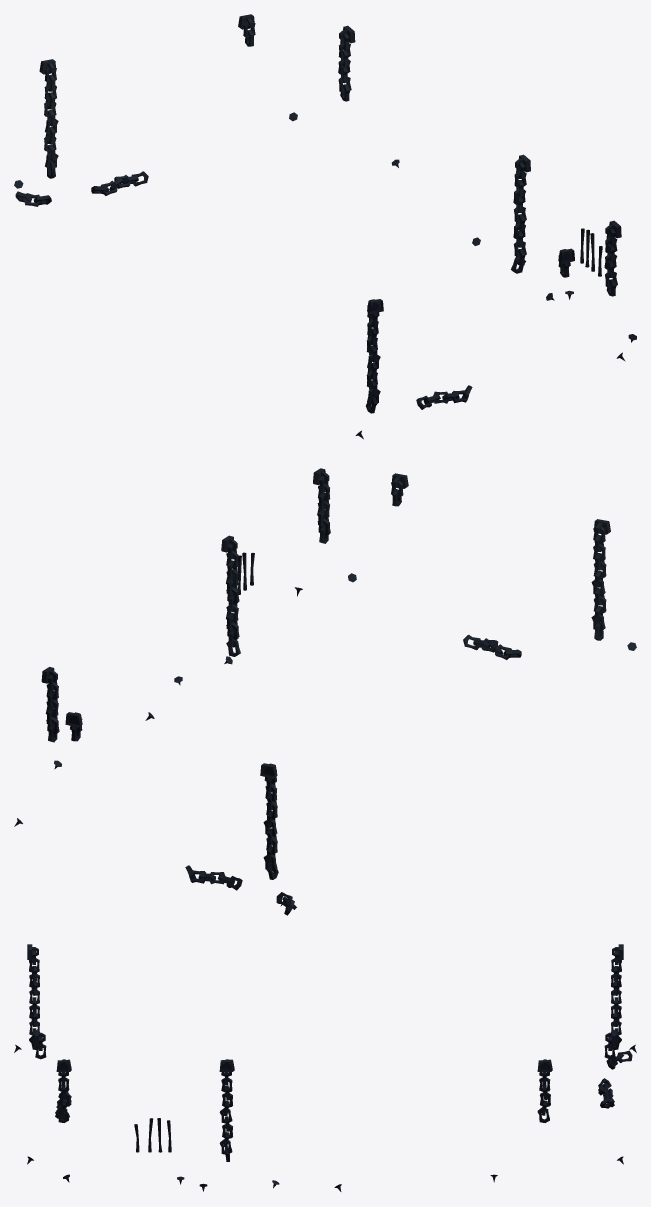
The model's file is Iron_01.FBX.
The picture shows the model from 3 angles, top to bottom: view 1: azimuth 30°, elevation 25°; view 2: azimuth 150°, elevation 25°; view 3: azimuth 270°, elevation 25°; orthographic projection. The views are drawn at different scales.
Parts seen in each view (by area): view 1: Iron_01; view 2: Iron_01; view 3: Iron_01.
Boxes of the visible parts, x1,y1,x2,y2 form: Iron_01: (14, 14, 636, 439); Iron_01: (14, 468, 636, 915); Iron_01: (14, 944, 636, 1191).
Bounding box in the file's own units: 12.71 × 5.41 × 24.16.
